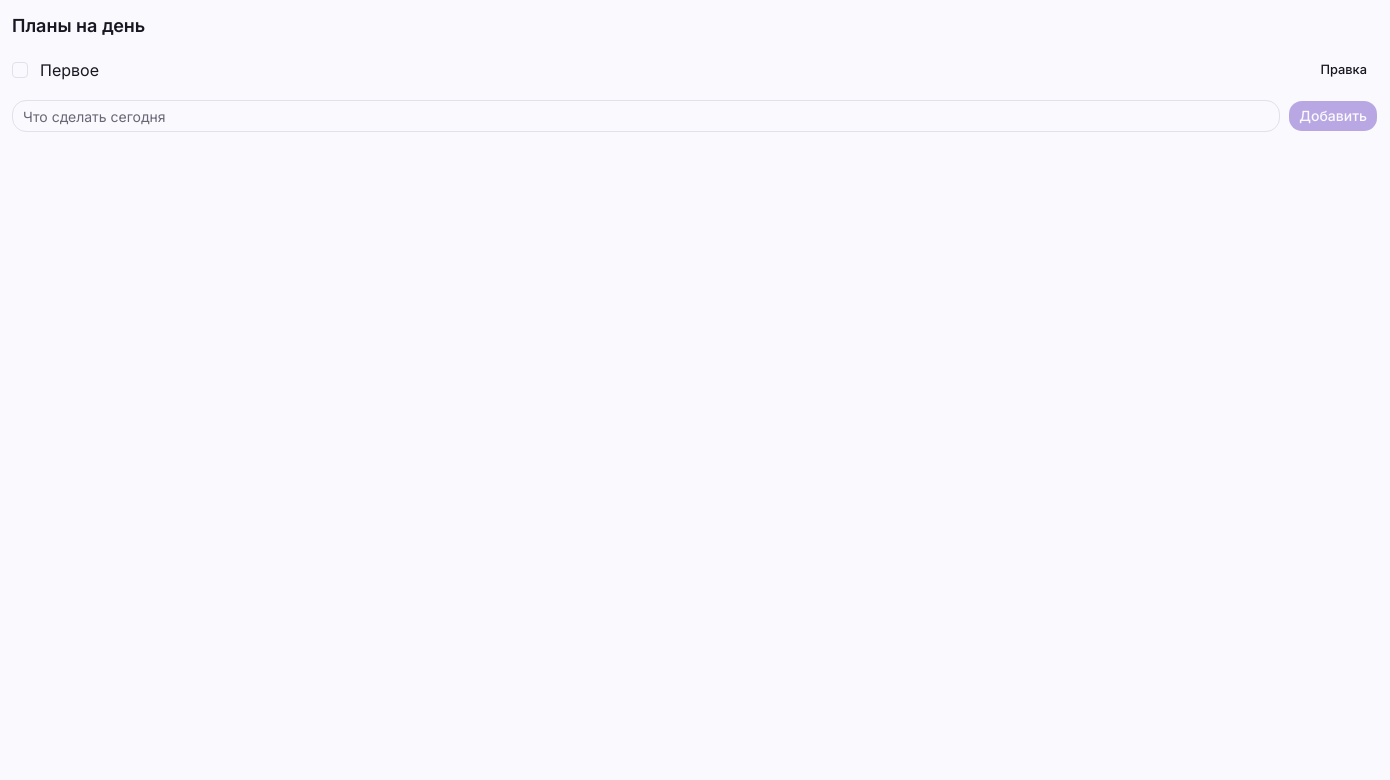
Test: DayPlanList › правка пункта открывает панель
This screenshot has width=1390, height=780.
Click the button with aria-label "правка пункта".
click(1344, 70)  # box [1310, 56, 1378, 84]
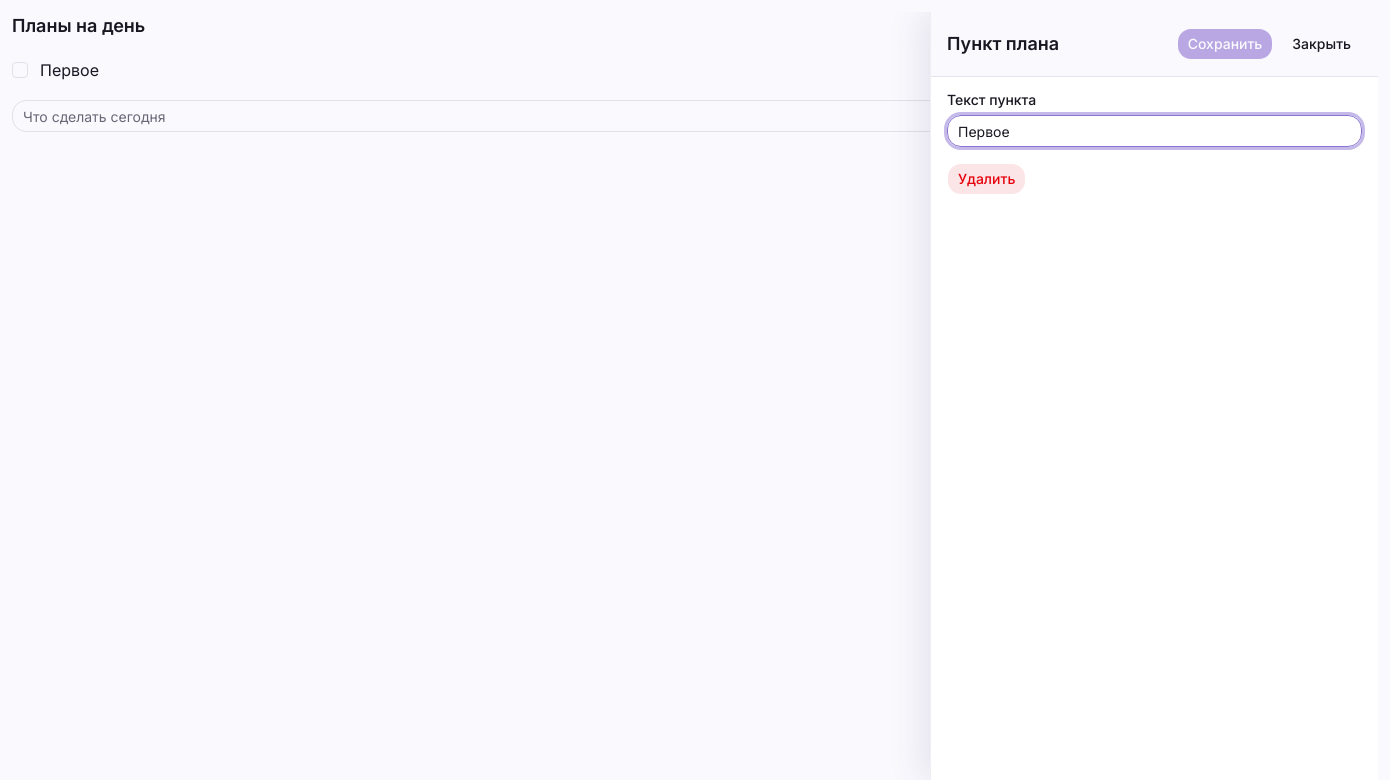
expect the element "Пункт плана Сохранить Закрыть Текст пункта Удалить" is shown: met, box [930, 12, 1378, 779]
expect the field labelled "Текст пункта" holds "Первое": met, box [947, 115, 1362, 147]
